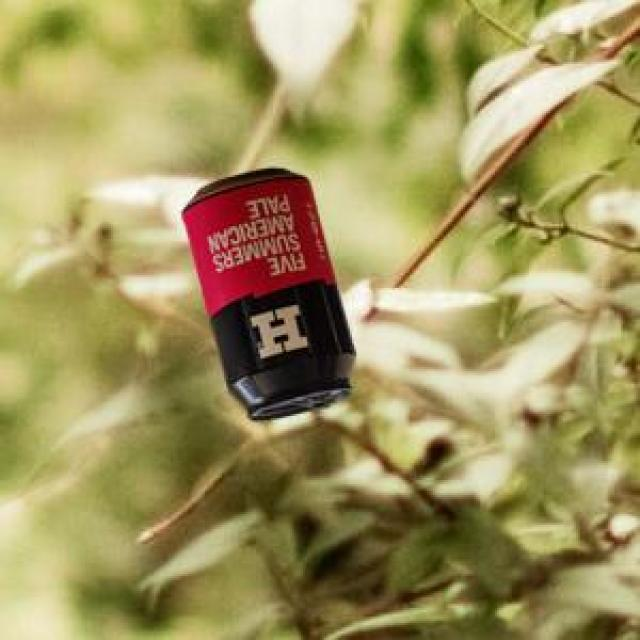Can: (178, 165, 353, 417)
